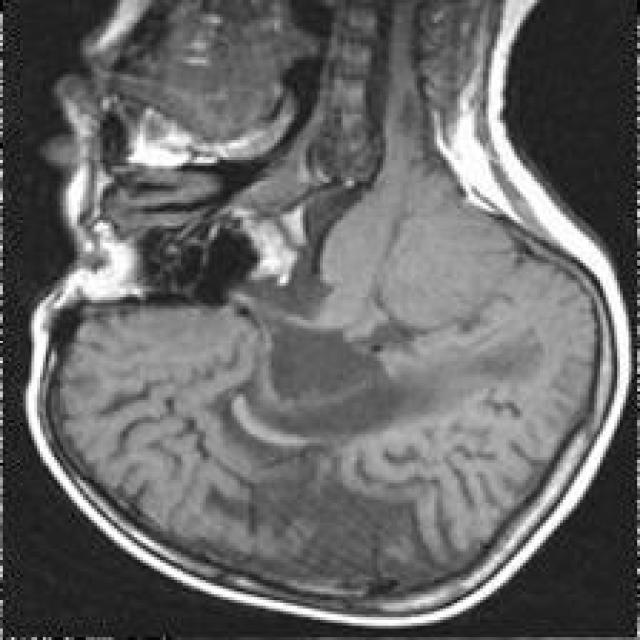no_tumor: (6, 137, 640, 621)
